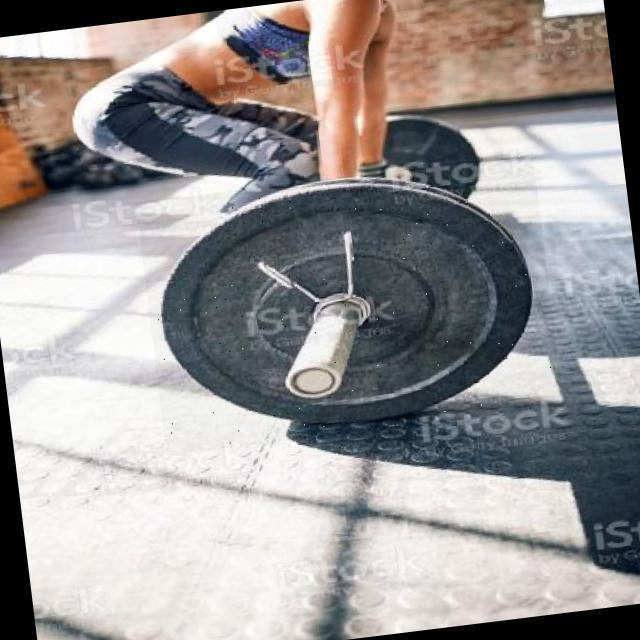barbell: (136, 154, 564, 456)
